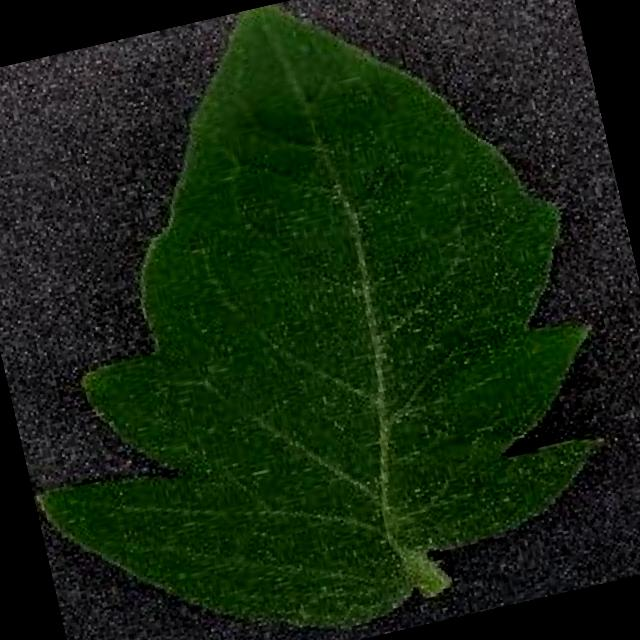healthy: (36, 7, 600, 632)
